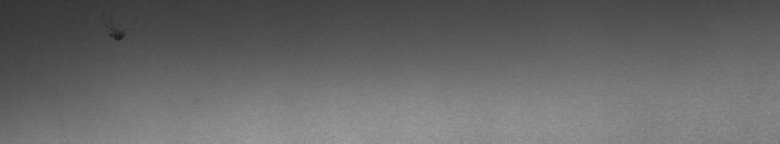fi: (108, 24, 128, 48)
